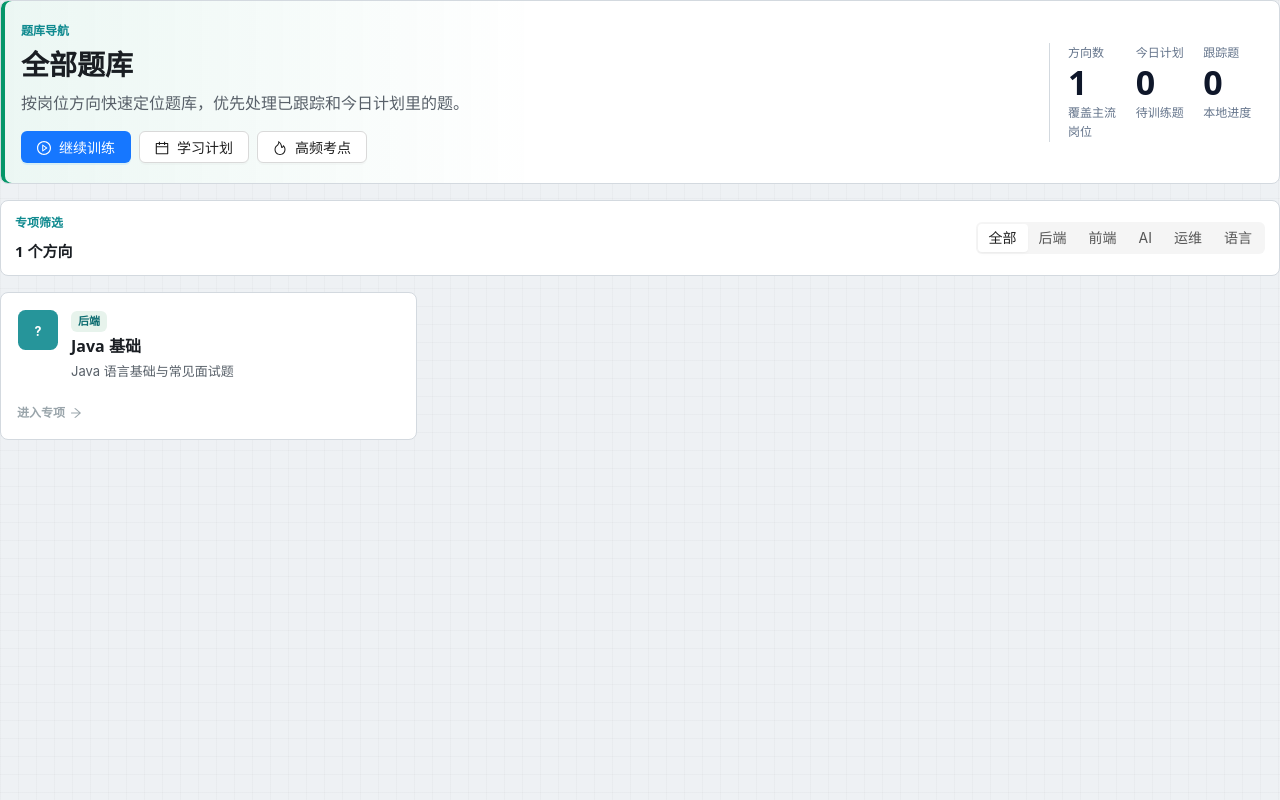
it: QuestionBank › shows an empty filter state and lets users return to all tracks
expect the link "? 后端 Java 基础 Java 语言基础与常见面试题 进入专项" is shown: met, box [0, 292, 417, 440]
What coordinates should you click on to do the following:
click the text "AI"
I would click on:
 (1145, 238)
Its box is [1139, 229, 1152, 246].
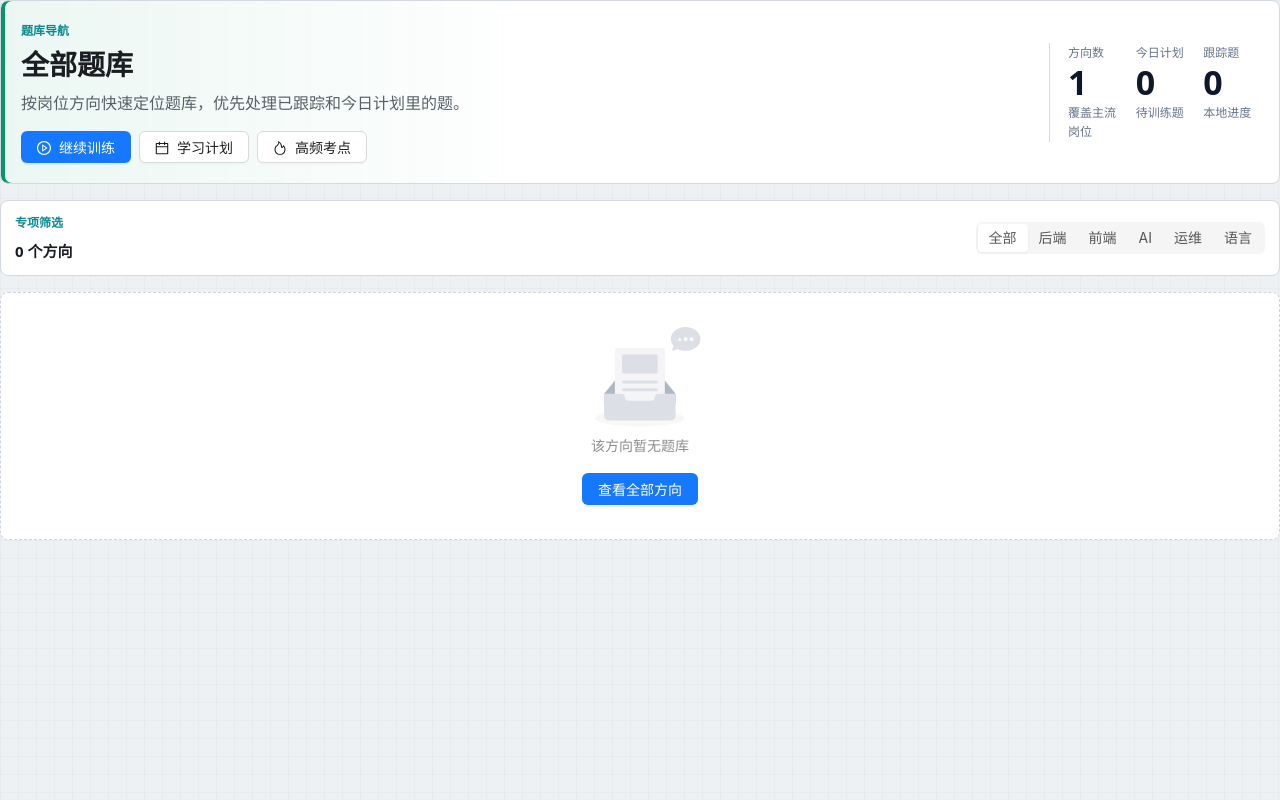
expect the text "该方向暂无题库" is shown: met, box [591, 437, 689, 454]
What coordinates should you click on to do the following:
click the button "查看全部方向"
I would click on:
 (640, 489)
Its box is [582, 473, 698, 505].
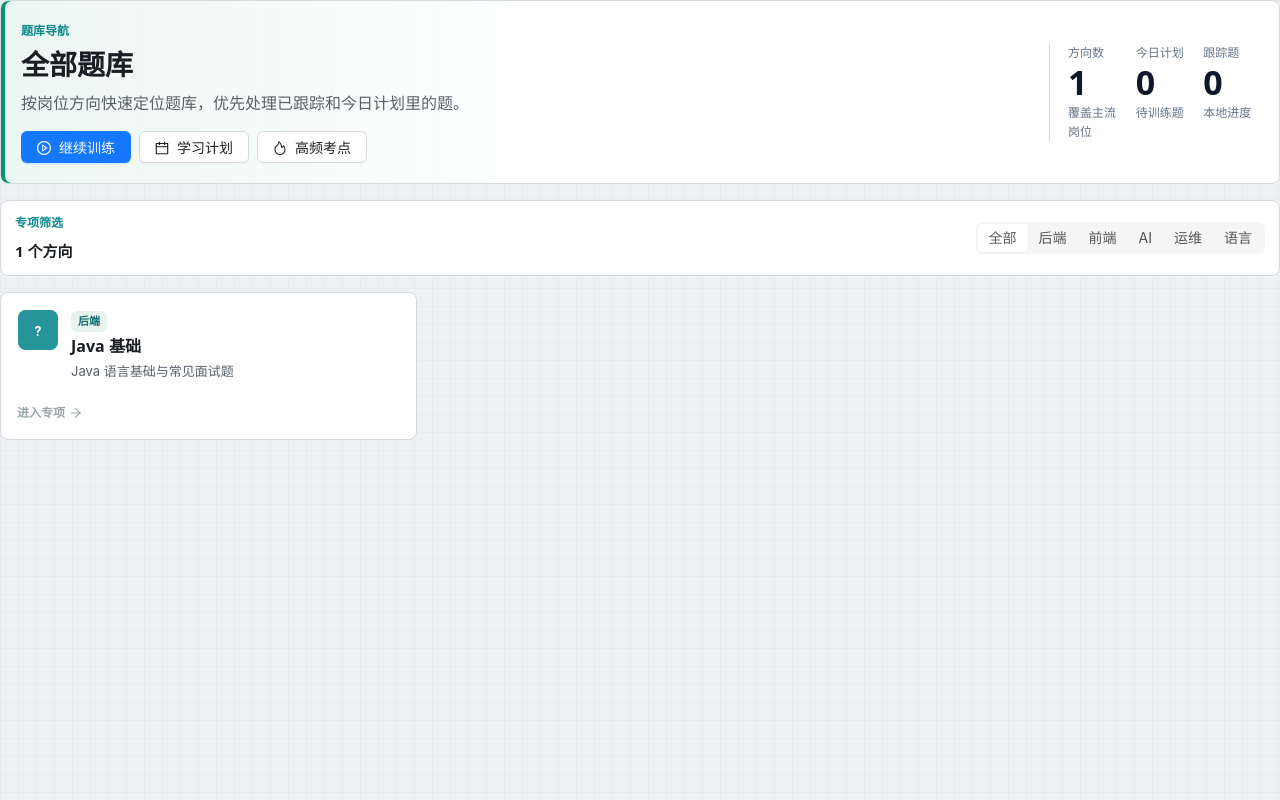
expect the link "? 后端 Java 基础 Java 语言基础与常见面试题 进入专项" is shown: met, box [0, 292, 417, 440]
